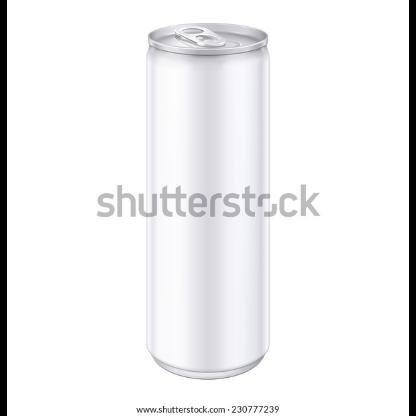Tin_Can: (142, 22, 270, 380)
